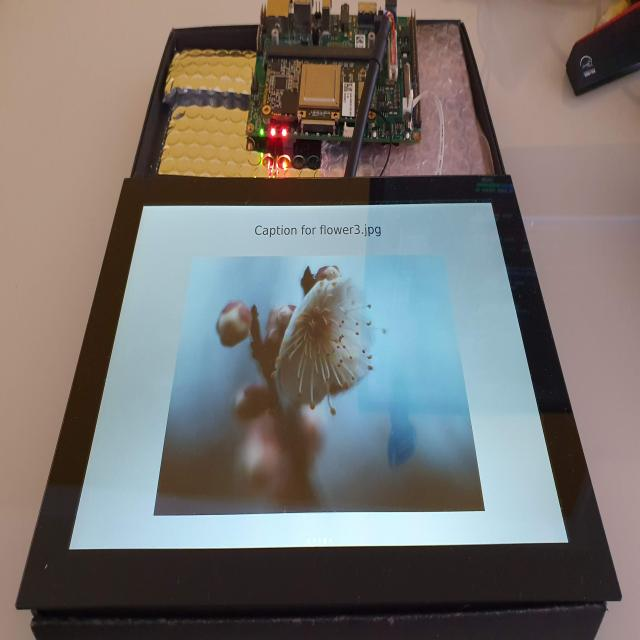som: (260, 45, 384, 141)
